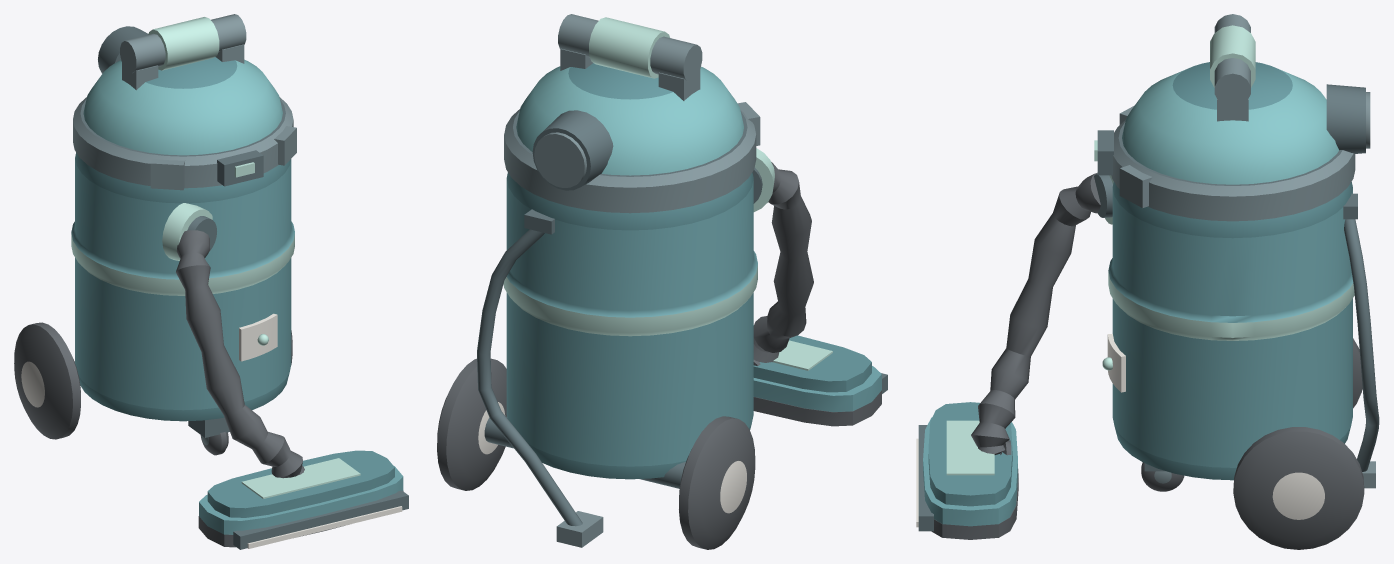
The model's file is aspiradora_n1.glb.
The picture shows the model from 3 angles, left to right: view 1: azimuth 30°, elevation 25°; view 2: azimuth 150°, elevation 25°; view 3: azimuth 270°, elevation 25°; orthographic projection. The views are drawn at different scales.
Parts seen in each view (by area): view 1: deposito2, cupula1, manguera, tapa_boquilla, rueda-11, deposito1, aro1, deposito3, cuerpo_boquilla, asa_puno, asa_barra, boca_boquilla (+14 smaller); view 2: deposito2, cupula1, aro1, rueda-11, manguera, deposito1, rueda11, cable, deposito3, tapa_boquilla, asa_puno, asa_barra (+13 smaller); view 3: deposito2, cupula1, rueda11, manguera, aro1, deposito1, tapa_boquilla, deposito3, cable, cupula2, cuerpo_boquilla, escape (+12 smaller).
Part boxes in pixels (<box>): deposito2: <box>71,158,294,410</box>; cupula1: <box>83,59,282,155</box>; manguera: <box>176,230,304,478</box>; tapa_boquilla: <box>207,450,394,517</box>; rueda-11: <box>14,322,80,439</box>; deposito1: <box>75,152,290,421</box>; aro1: <box>73,97,293,188</box>; deposito3: <box>71,234,294,295</box>; cuerpo_boquilla: <box>199,466,403,534</box>; asa_puno: <box>148,17,219,70</box>; asa_barra: <box>120,14,246,73</box>; boca_boquilla: <box>233,490,408,549</box>; deposito2: <box>506,179,757,466</box>; cupula1: <box>516,66,743,175</box>; aro1: <box>504,109,756,213</box>; rueda-11: <box>679,416,755,549</box>; manguera: <box>753,162,813,365</box>; deposito1: <box>506,172,753,479</box>; rueda11: <box>437,358,506,490</box>; cable: <box>477,229,582,526</box>; deposito3: <box>503,265,757,336</box>; tapa_boquilla: <box>753,325,871,392</box>; asa_puno: <box>589,17,669,78</box>; asa_barra: <box>558,14,702,81</box>; deposito2: <box>1108,188,1353,467</box>; cupula1: <box>1122,69,1338,184</box>; rueda11: <box>1233,427,1364,549</box>; manguera: <box>971,173,1100,455</box>; aro1: <box>1111,120,1355,221</box>; deposito1: <box>1112,181,1352,480</box>; tapa_boquilla: <box>928,402,1012,506</box>; deposito3: <box>1108,271,1354,340</box>; cable: <box>1344,219,1379,471</box>; cupula2: <box>1172,62,1292,109</box>; cuerpo_boquilla: <box>923,417,1017,526</box>; escape: <box>1326,84,1365,153</box>.
Size of the model in its own units: 0.2826 by 0.4555 by 0.4238.
